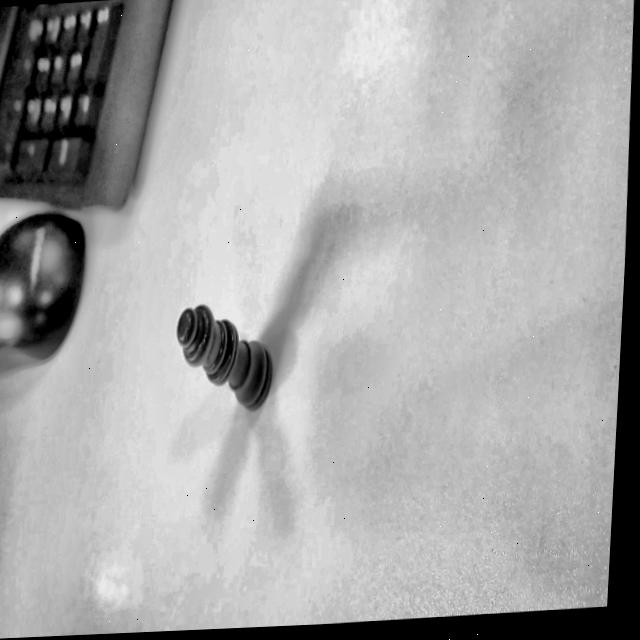black-queen: (157, 280, 291, 426)
